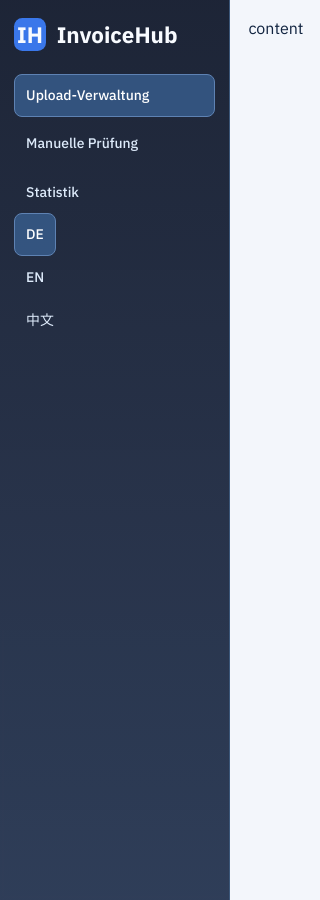
Test: AppFrame i18n controls › switches to english and persists app.lang
Click the button "EN": [35, 277] box [14,256,57,299]
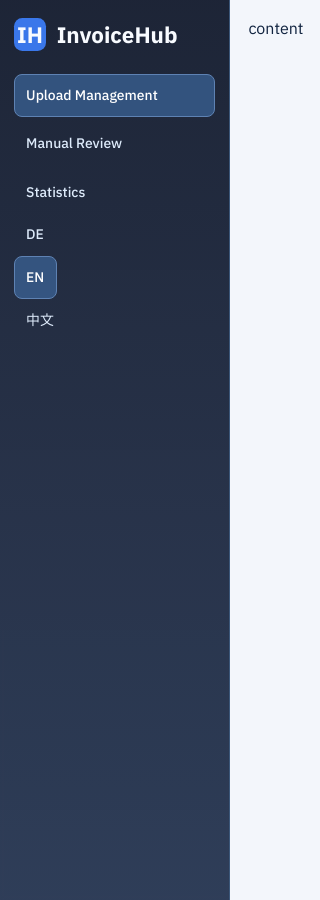
Expected: the link "Upload Management" is shown, [14,74,215,117]
